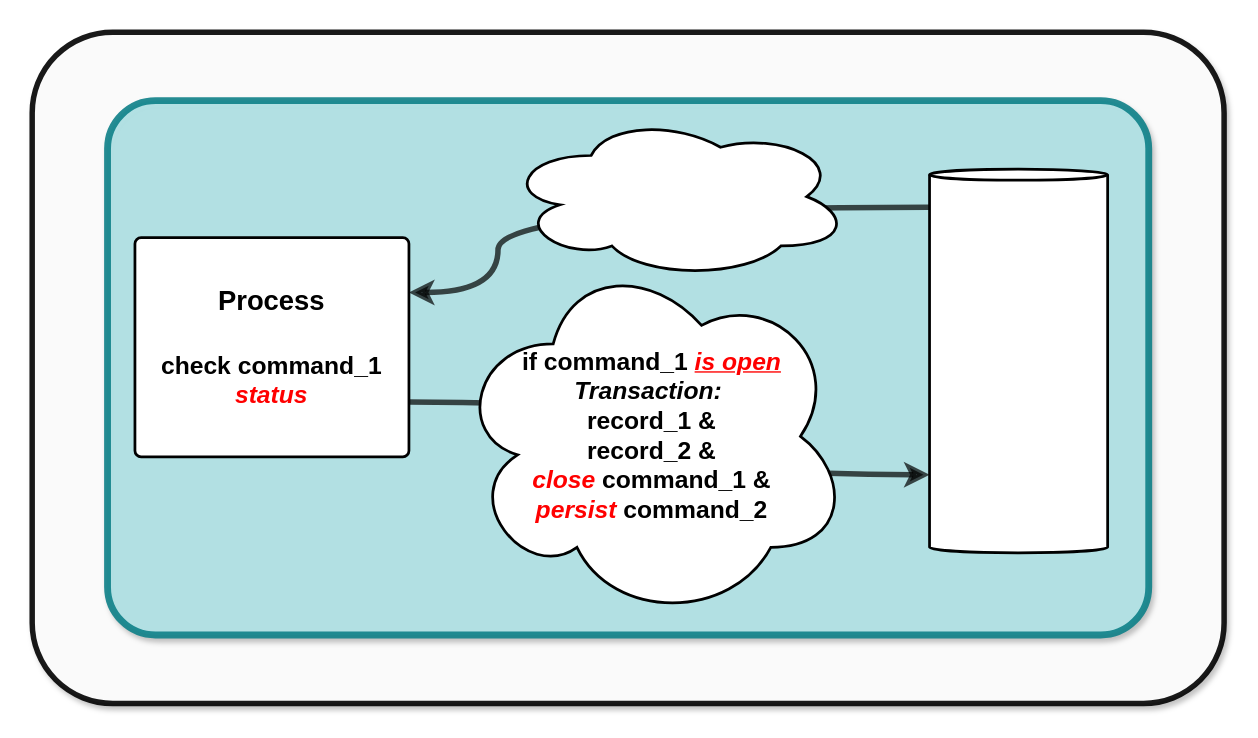
This 1258x738 diagram has some shape labels left out. Each missing label, with the centre of its shape:
Database: (1017,360)
fetch command_1: (677,195)
